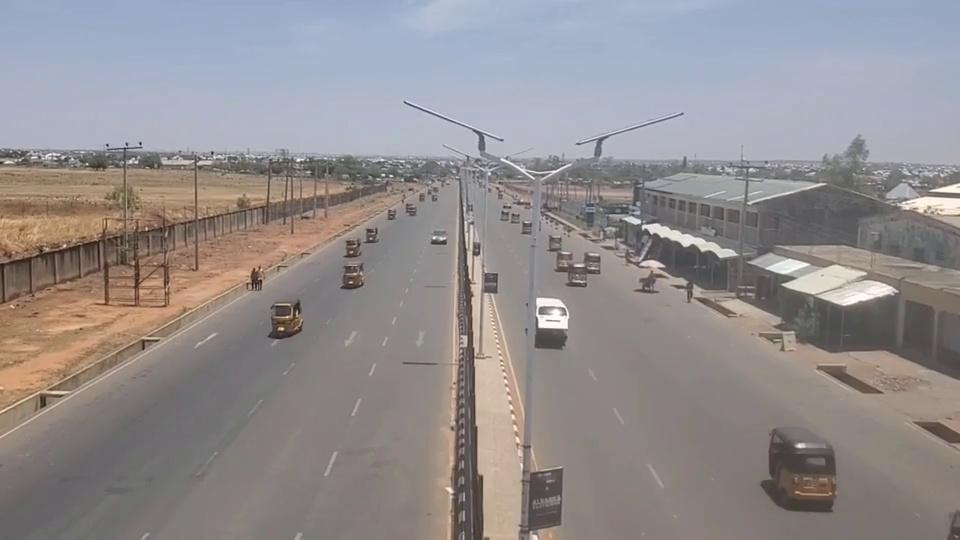keke: (767, 425, 837, 508), (269, 299, 303, 336)
